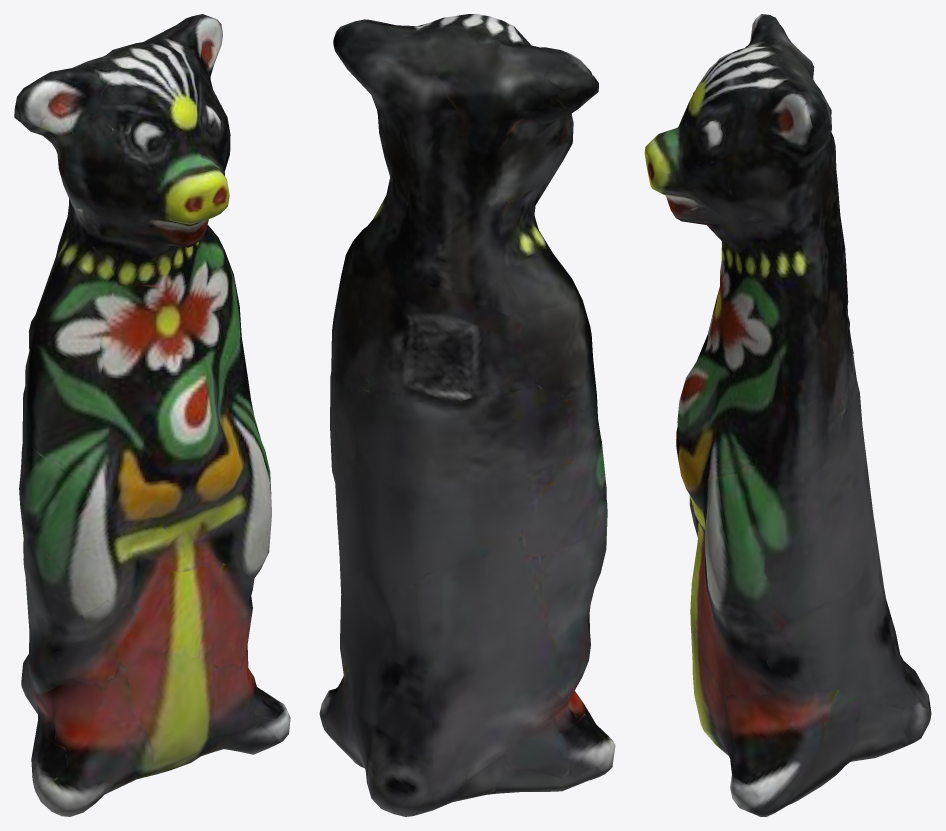
Rendered from hall.glb.
The picture shows the model from 3 angles, left to right: view 1: azimuth 30°, elevation 25°; view 2: azimuth 150°, elevation 25°; view 3: azimuth 270°, elevation 25°; orthographic projection. The views are drawn at different scales.
Size of the model in its own units: 0.3805 by 0.9782 by 0.361.
Materials: 1 (1 with a texture image).
